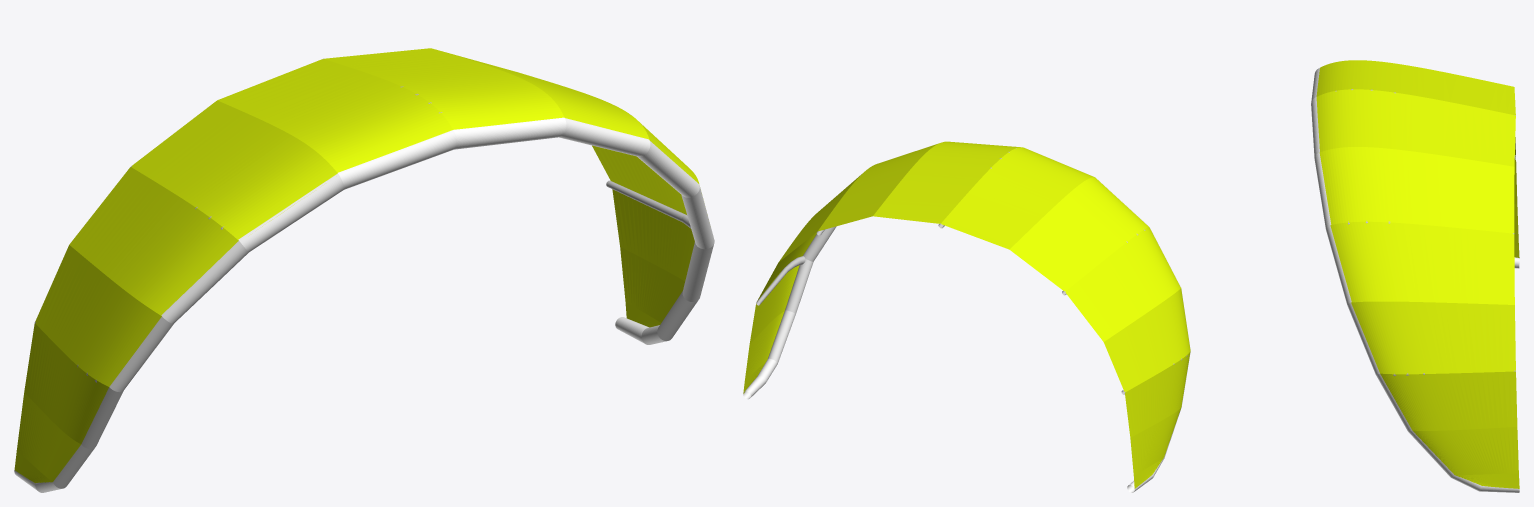
The model's file is race-kite.obj.
3 views of the same model, side by side, from view 1: azimuth 30°, elevation 25°; view 2: azimuth 150°, elevation 25°; view 3: azimuth 270°, elevation 25° (orthographic). The views are drawn at different scales.
Visible parts, largest first — view 1: Sail, Leading_Edge, Strut; view 2: Sail, Leading_Edge, Strut; view 3: Sail, Leading_Edge.
Part boxes in pixels (x1=…): Sail: x1=14, y1=48, x2=699, y2=483; Leading_Edge: x1=14, y1=117, x2=714, y2=492; Strut: x1=34, y1=58, x2=690, y2=382; Sail: x1=743, y1=141, x2=1190, y2=488; Leading_Edge: x1=743, y1=148, x2=1190, y2=492; Strut: x1=756, y1=148, x2=1187, y2=394; Sail: x1=1316, y1=60, x2=1519, y2=488; Leading_Edge: x1=1311, y1=68, x2=1519, y2=492.
Size of the model in its own units: 4.21 by 3.33 by 2.31.
